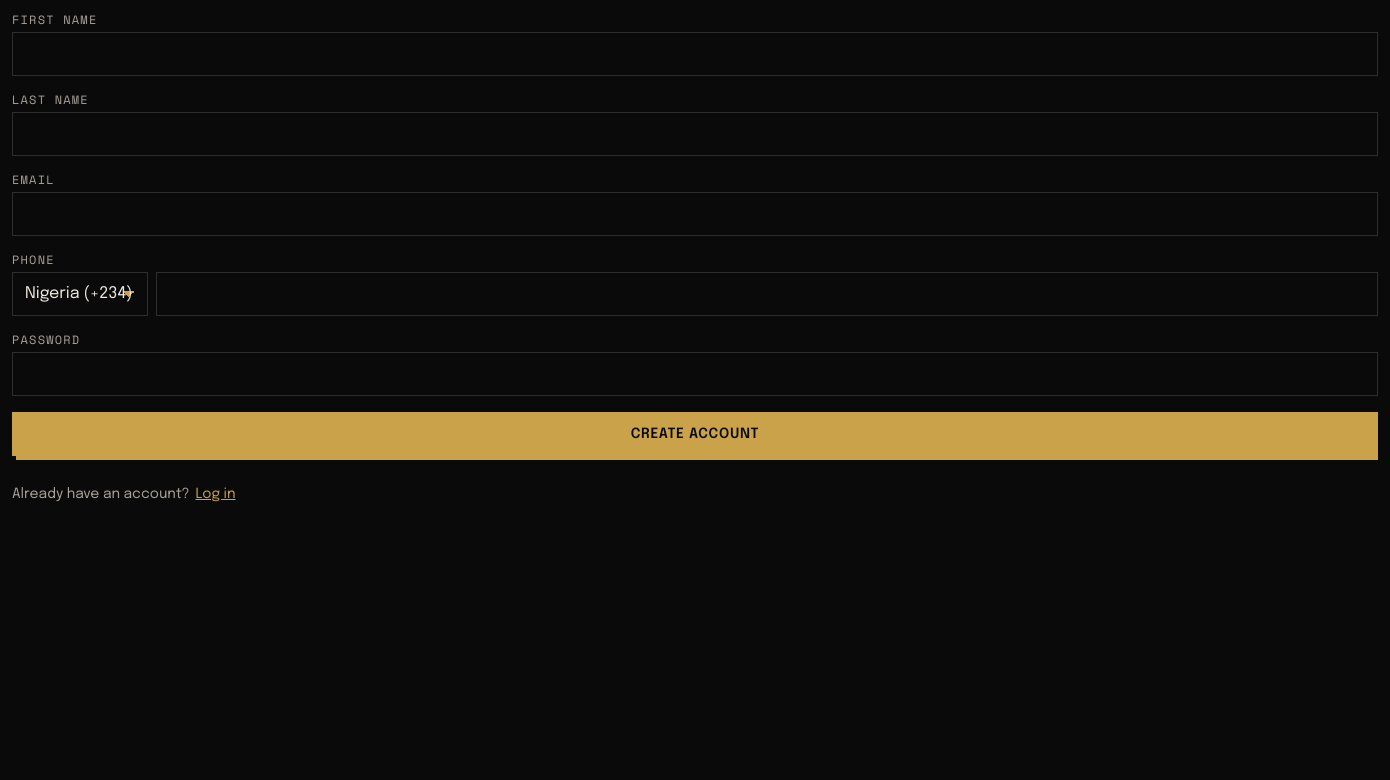
Scenario: auth forms › shows a duplicate-email rejection
Type "Ada" into the field labelled "First name" at (695, 54), box top-left (12, 32), bottom-right (1378, 76)
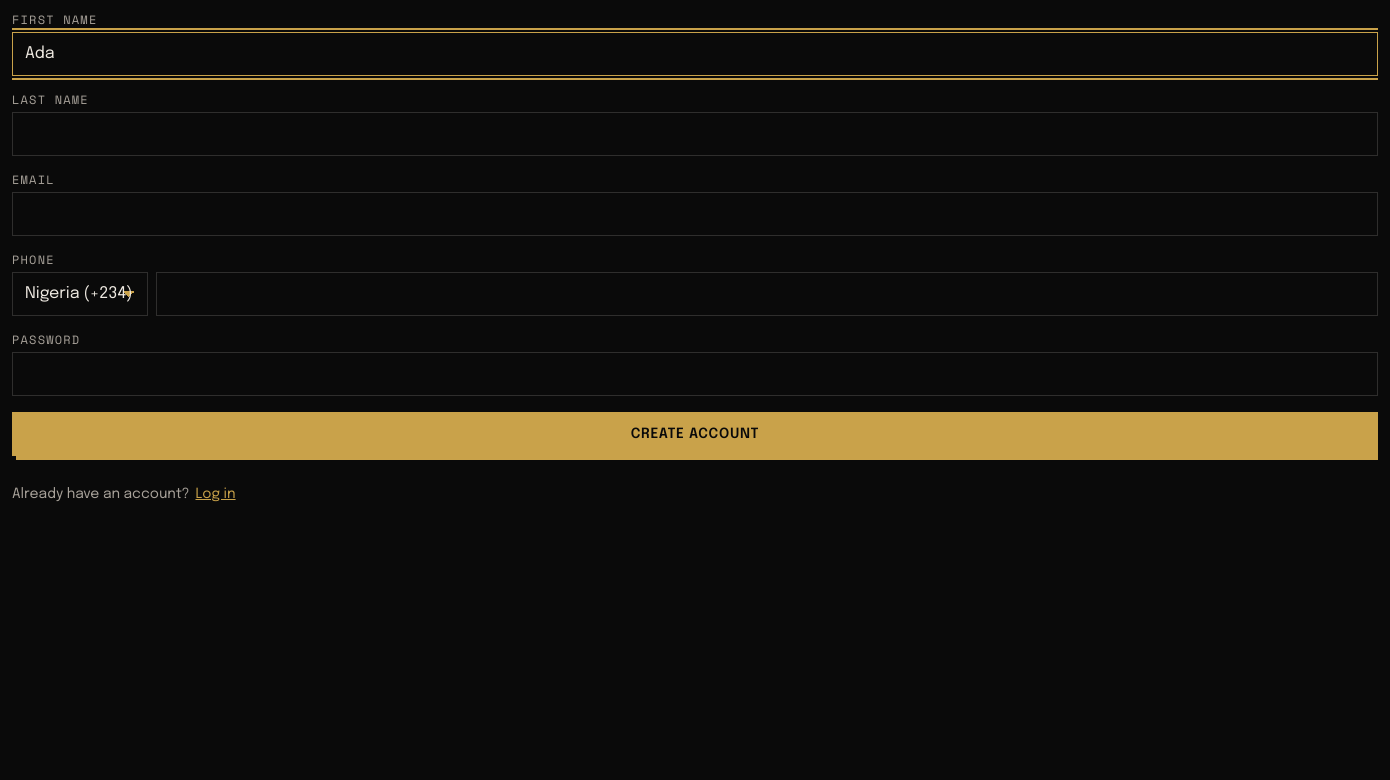
Type "taken@example.com" into the field labelled "Email" at (695, 214), box top-left (12, 192), bottom-right (1378, 236)
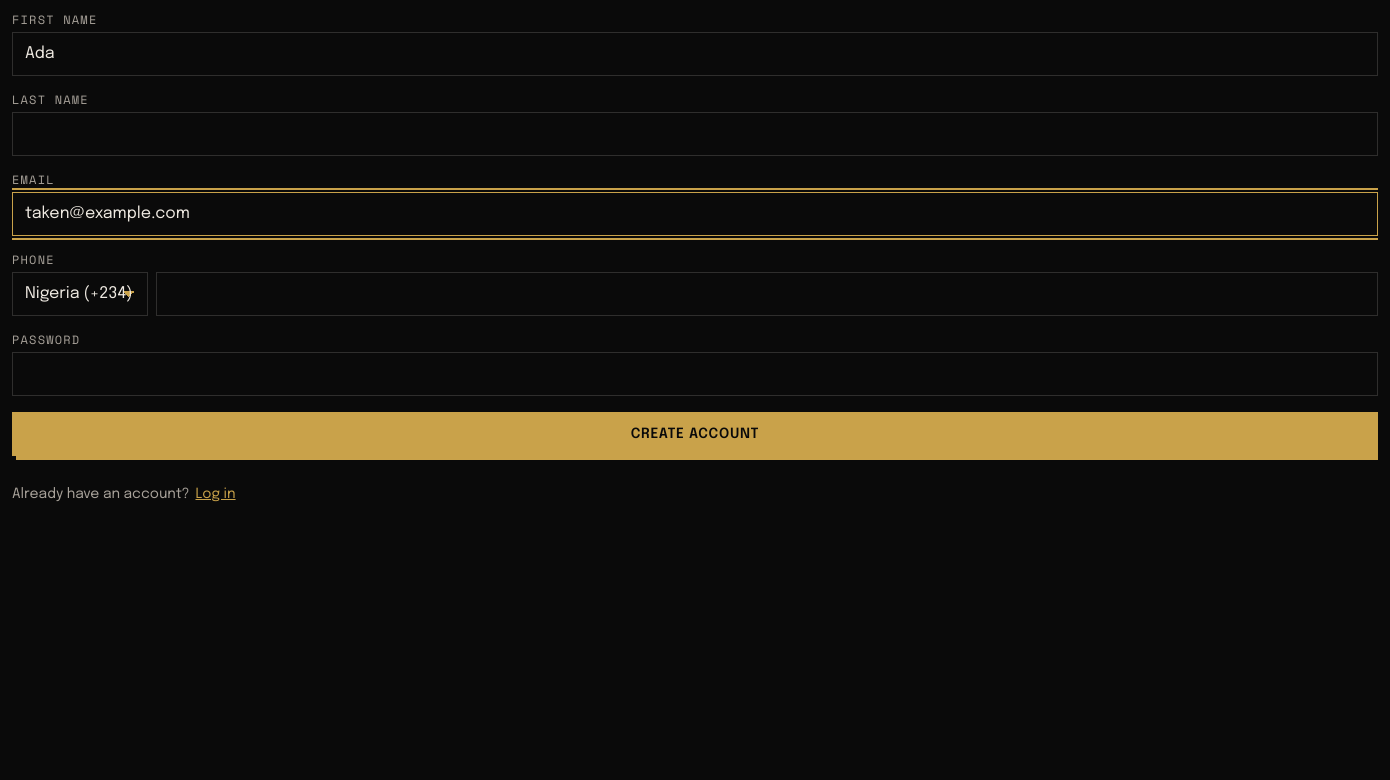
Type "+2348000000000" into the field labelled "Phone" at (767, 294), box top-left (156, 272), bottom-right (1378, 316)
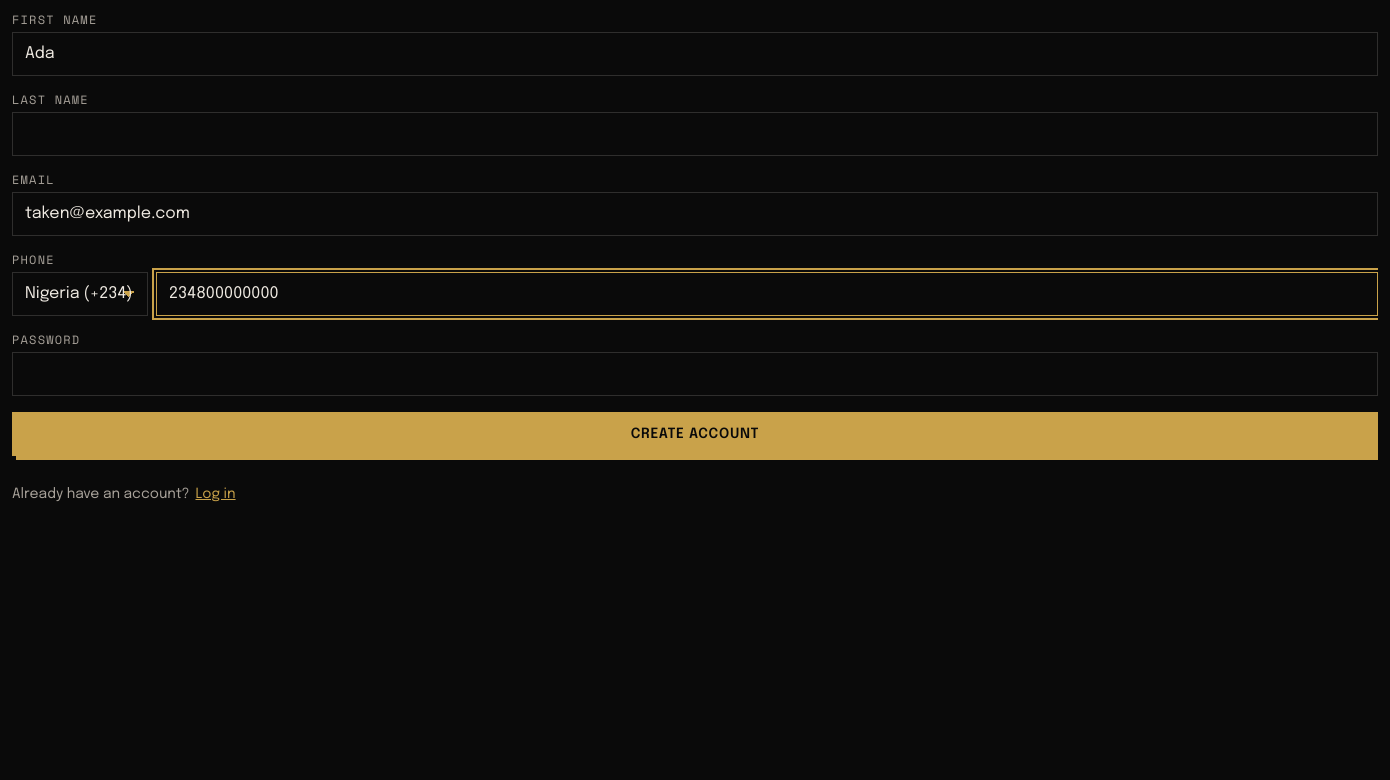
Type "correct-horse" into the password field labelled "Password" at (695, 374), box top-left (12, 352), bottom-right (1378, 396)
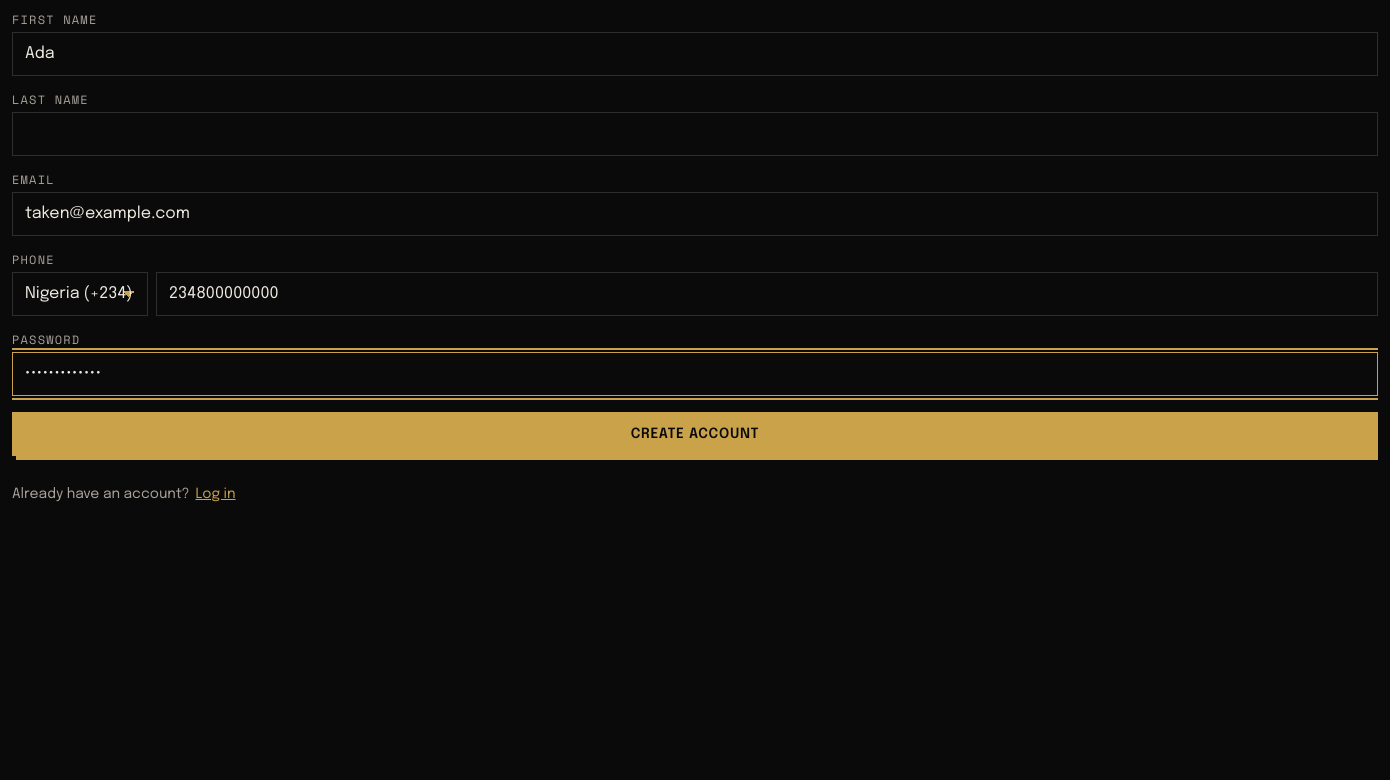
Click the button "Create account" at (695, 434), box top-left (12, 412), bottom-right (1378, 456)
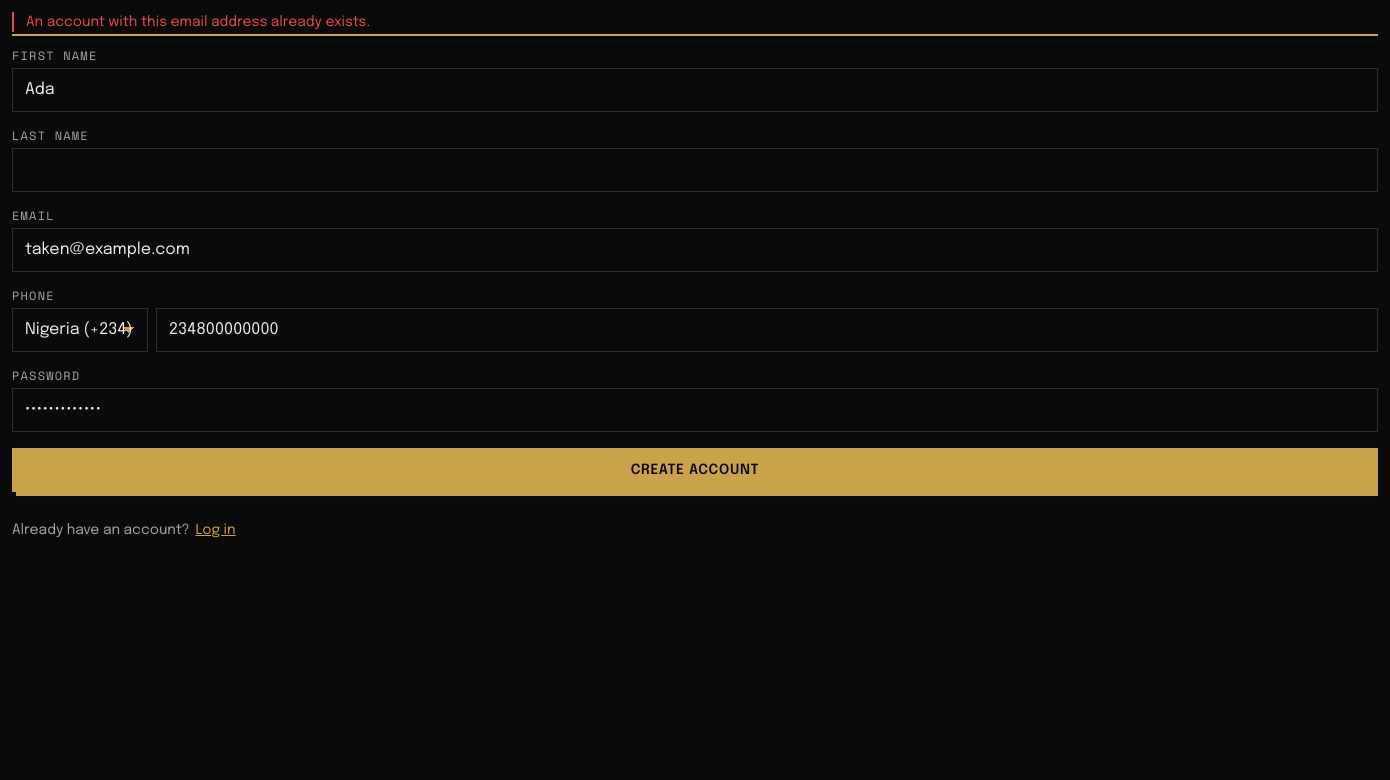
Expected: the message shows "already exists", top-left (26, 15), bottom-right (370, 29)
